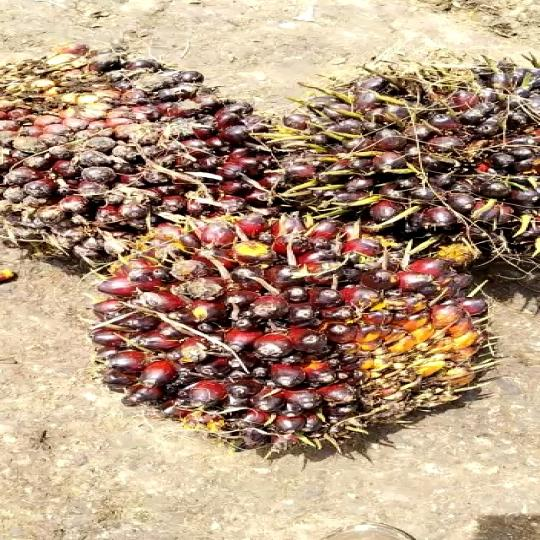kurang masak: (96, 226, 516, 441), (0, 29, 291, 248), (291, 48, 540, 289)
